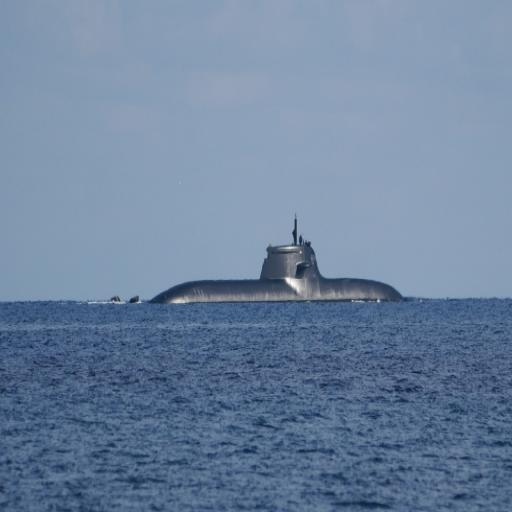submarine: (111, 214, 406, 307)
